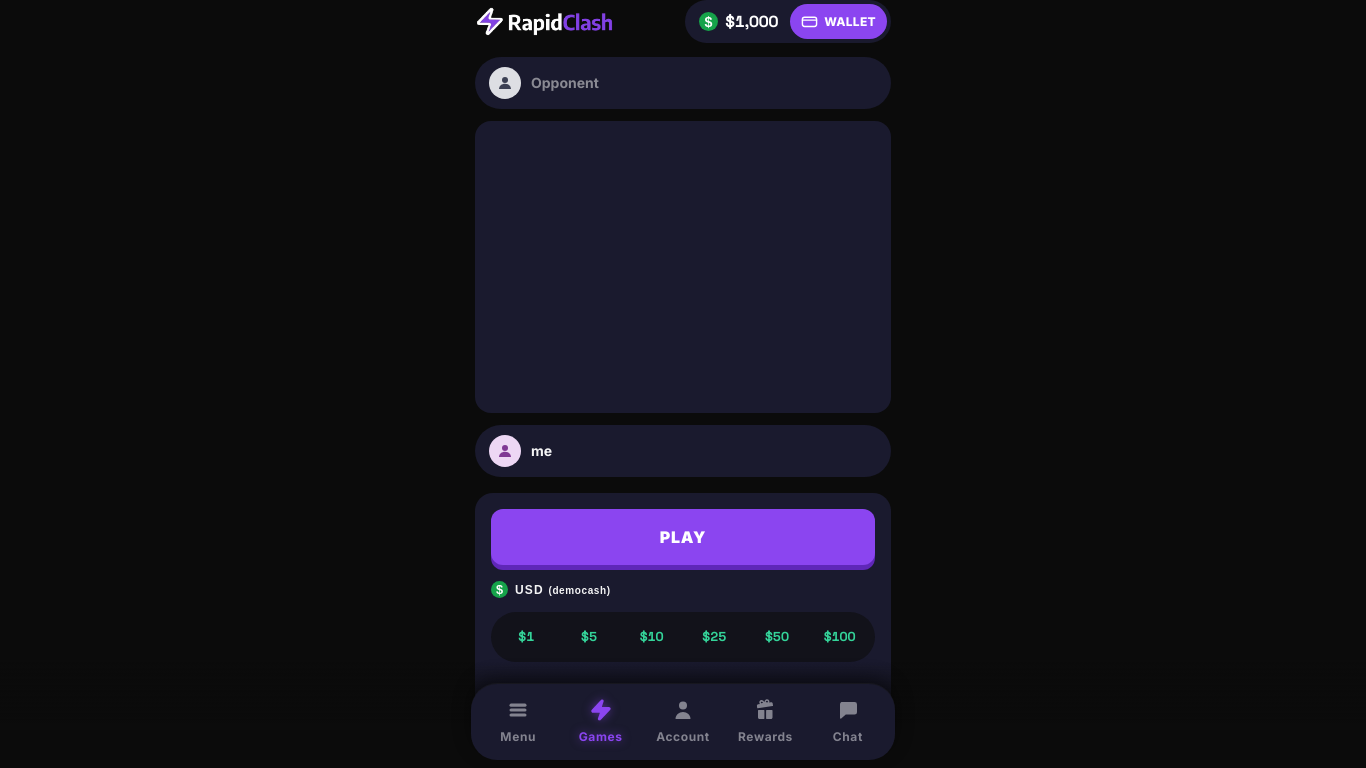
Test: CoinflipHubScreen (Part 2 — live state machine) › #381: tap-again on the 1¢ preset arms the reserved stake 2 › a third tap (while at 2) toggles back to 1
This screenshot has width=1366, height=768.
Step 1. Click the button with test id "hub-bet-1" → (526, 637), box [496, 617, 557, 656]
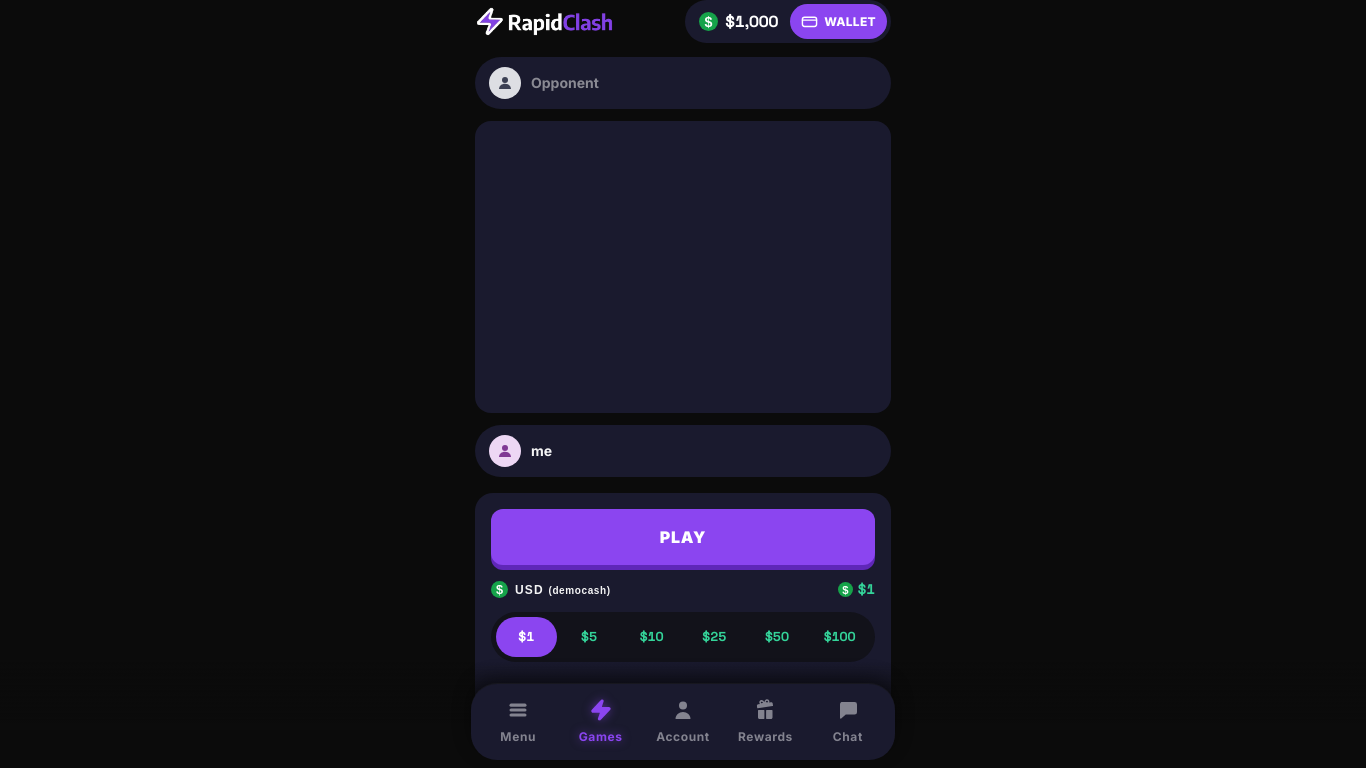
Step 2. Click the button with test id "hub-bet-1" → (526, 637), box [496, 617, 557, 656]
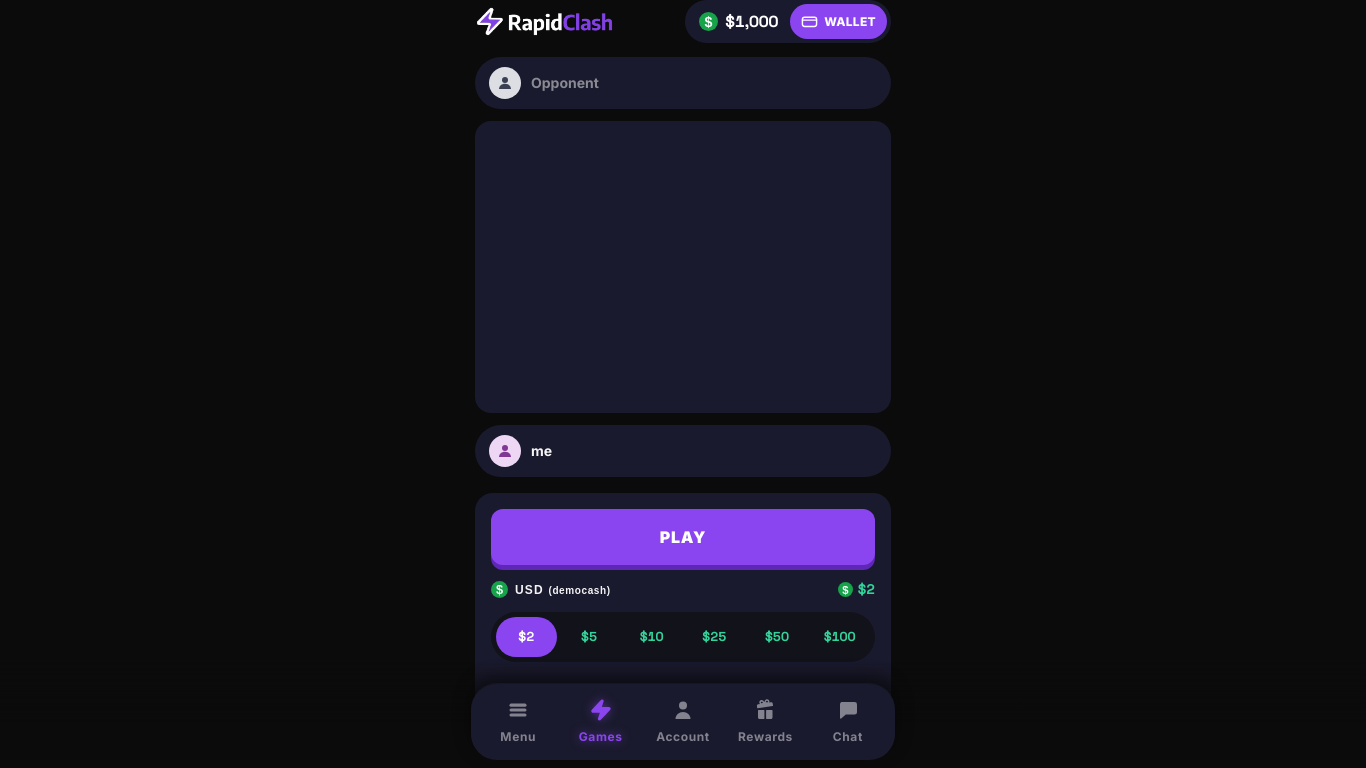
Step 3. Click the button with test id "hub-bet-1" → (526, 637), box [496, 617, 557, 656]
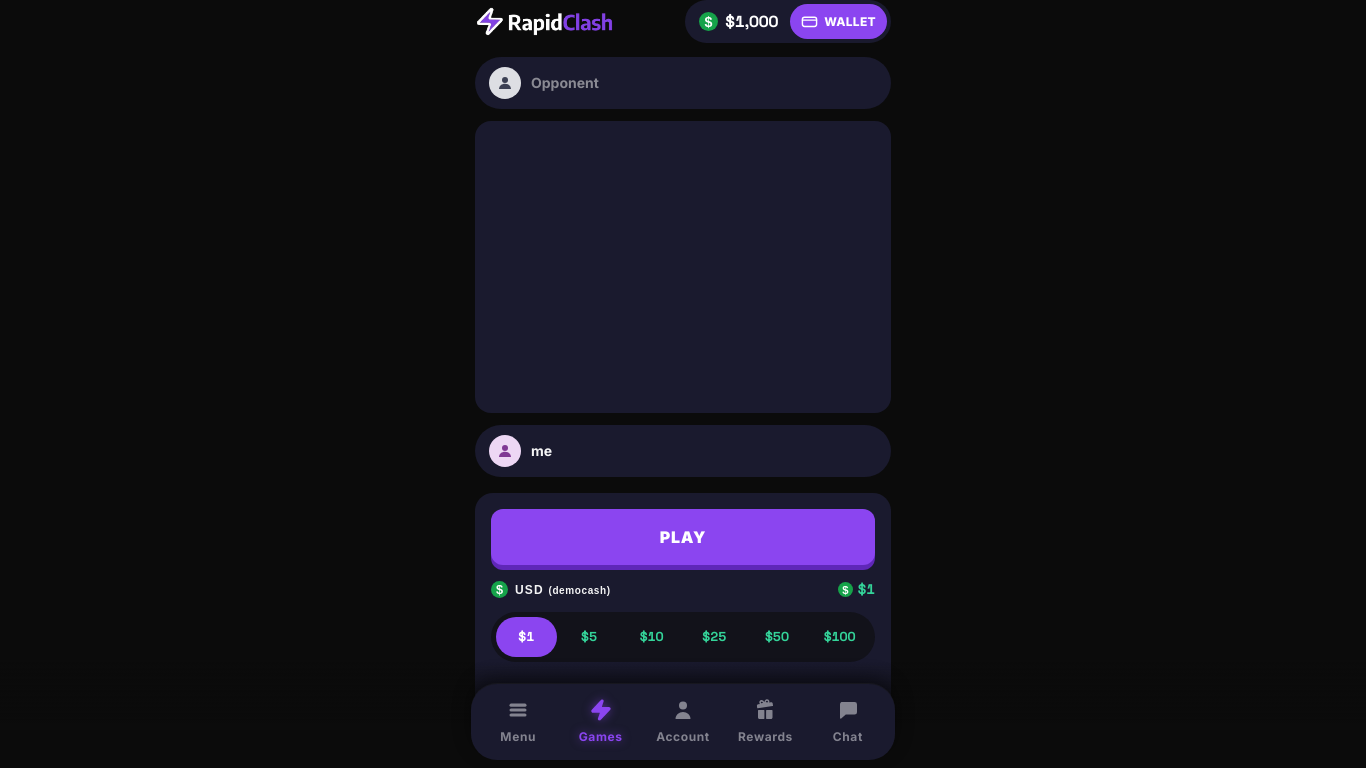
Result: the button with test id "hub-bet-1" reads "$1" at [496, 617, 557, 656]
